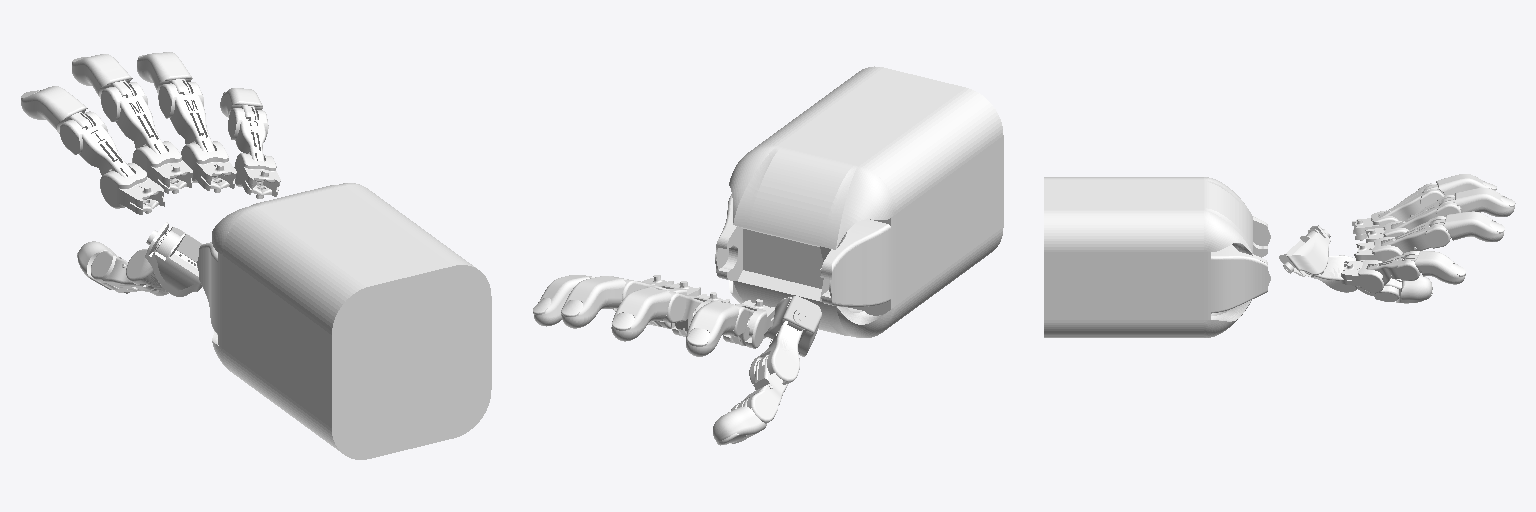
robot.urdf — orcahand-model:
<robot name="orcahand-model">
	<material name="white">
		<color rgba="1 1 1 1" />
	</material>
	
	
	<link name="right_forearm">
		<inertial>
			<origin xyz="0 0 0" rpy="0.0 0.0 0.0" />
			<mass value="7.422772269408962" />
			<inertia ixx="128.4318900361609" iyy="109.76841848699638" izz="132.91124270845685" ixy="-2.087847423904692" ixz="1.4281855698072828e-13" iyz="-2.854586256262337e-14" />
		</inertial>
		<visual>
			<origin xyz="0 0 0" rpy="0.0 0.0 0.0" />
			<geometry>
				<mesh filename="../stl/ForeArmStructure-Model.stl" scale="0.001 0.001 0.001" />
			</geometry>
			<material name="white" />
		</visual>
	</link>
	
	
	<link name="right_wrist_link">
		<inertial>
			<origin xyz="0 0 0" rpy="0.0 0.0 0.0" />
			<mass value="1.4358302150483626" />
			<inertia ixx="12.708767151212927" iyy="11.59574536210755" izz="16.243505983672723" ixy="1.940323774306307e-06" ixz="4.034621417713424e-06" iyz="-0.04398962617143915" />
		</inertial>
		<visual>
			<origin xyz="0 0 0" rpy="0.0 0.0 0.0" />
			<geometry>
				<mesh filename="../stl/TopTower-Model.stl" scale="0.001 0.001 0.001" />
			</geometry>
			<material name="white" />
		</visual>
	</link>
	<joint type="fixed" name="right_wrist_link_fixed">
		<parent link="right_forearm" />
		<child link="right_wrist_link" />
		<origin xyz="-0.010000000000000018 0.05230000000000584 -2.0816681711721685e-17" rpy="-1.5707963267948966 1.570796326794894 0.0" />
	</joint>
	
	
	<link name="right_palm">
		<inertial>
			<origin xyz="-0.004999999999999981 -0.0018770780631086129 0.049500000670552415" rpy="0.0 0.0 0.0" />
			<mass value="0.8530674839222121" />
			<inertia ixx="5.64599655945535" iyy="8.775715922656463" izz="4.238061929890296" ixy="-0.3232643354144511" ixz="0.8904961899074508" iyz="0.5112439505719035" />
		</inertial>
		<visual>
			<origin xyz="-0.004999999999999981 -0.0018770780631086129 0.049500000670552415" rpy="0.0 0.0 0.0" />
			<geometry>
				<mesh filename="../stl/R-Carpals.stl" scale="0.001 0.001 0.001" />
			</geometry>
			<material name="white" />
		</visual>
	</link>
	<joint type="revolute" name="right_wrist">
		<parent link="right_wrist_link" />
		<child link="right_palm" />
		<origin xyz="-3.2959746043559335e-17 2.42861286636753e-17 0.04" rpy="0.09289260590234294 0.0 -1.5707963267949" />
		<axis xyz="-0.9999999999999938 -9.630996986119195e-17 7.703182845897774e-17" />
		<limit lower="-1.1344640137963142" upper="0.6108652381980153" effort="100" velocity="100" />
	</joint>
	
	
	<link name="right_pinky_mp">
		<inertial>
			<origin xyz="-0.01775000000000023 -7.719519468096792e-17 -0.0009999999999999966" rpy="0.0 0.0 0.0" />
			<mass value="0.025832391646376553" />
			<inertia ixx="0.013522757440135555" iyy="0.03380562916501796" izz="0.037926070358509256" ixy="-3.167478840852844e-06" ixz="-0.002331119633907205" iyz="-4.487549673535706e-07" />
		</inertial>
		<visual>
			<origin xyz="-0.01775000000000023 -7.719519468096792e-17 -0.0009999999999999966" rpy="0.0 0.0 0.0" />
			<geometry>
				<mesh filename="../stl/P-AP.stl" scale="0.001 0.001 0.001" />
			</geometry>
			<material name="white" />
		</visual>
	</link>
	<joint type="revolute" name="right_pinky_abd">
		<parent link="right_palm" />
		<child link="right_pinky_mp" />
		<origin xyz="0.03564171604590427 0.0006891586859576484 0.06205424192069385" rpy="-1.5224982763416053 1.2579440273085907 -2.904592469503598" />
		<axis xyz="2.498001805406602e-16 -1.1102230246251565e-16 1.000000000000007" />
		<limit lower="-0.5235987755982988" upper="0.5235987755982988" effort="100" velocity="100" />
	</joint>
	
	
	<link name="right_pinky_pp">
		<inertial>
			<origin xyz="9.169868087003068e-18 3.2416949015788624e-17 -2.466914618245282e-16" rpy="0.0 0.0 0.0" />
			<mass value="0.008080250955757862" />
			<inertia ixx="0.025661504202305643" iyy="0.025813993359514866" izz="0.003476420784123192" ixy="2.7484806742075756e-07" ixz="-0.0018033087152573186" iyz="-3.611797272485351e-05" />
		</inertial>
		<visual>
			<origin xyz="9.169868087003068e-18 3.2416949015788624e-17 -2.466914618245282e-16" rpy="0.0 0.0 0.0" />
			<geometry>
				<mesh filename="../stl/P-PP.stl" scale="0.001 0.001 0.001" />
			</geometry>
			<material name="white" />
		</visual>
	</link>
	<joint type="revolute" name="right_pinky_mcp">
		<parent link="right_pinky_mp" />
		<child link="right_pinky_pp" />
		<origin xyz="-0.017750000000042766 -1.471513750451518e-16 -0.0009999999999996865" rpy="4.440892098500626e-15 -1.162450260857511 -5.329070518200751e-15" />
		<axis xyz="1.9984014443252818e-15 -1.000000000000005 9.71445146547012e-16" />
		<limit lower="-1.0471975511965976" upper="1.7453292519943295" effort="100" velocity="100" />
	</joint>
	
	
	<link name="right_pinky_fingertip">
		<inertial>
			<origin xyz="-1.6500029895434137e-17 1.603234676666448e-16 -3.0895633627166036e-16" rpy="0.0 0.0 0.0" />
			<mass value="0.077601125681334" />
			<inertia ixx="0.30272529615882315" iyy="0.3121287876048924" izz="0.02610606111956632" ixy="-2.5492682886922744e-07" ixz="0.02534716903299485" iyz="0.00019494766142365898" />
		</inertial>
		<visual>
			<origin xyz="-1.6500029895434137e-17 1.603234676666448e-16 -3.0895633627166036e-16" rpy="0.0 0.0 0.0" />
			<geometry>
				<mesh filename="../stl/P-FingerTipAssembly.stl" scale="0.001 0.001 0.001" />
			</geometry>
			<material name="white" />
		</visual>
	</link>
	<joint type="revolute" name="right_pinky_pip">
		<parent link="right_pinky_pp" />
		<child link="right_pinky_fingertip" />
		<origin xyz="0.0010000000000001516 -8.627315522741384e-17 0.030999999999999958" rpy="-2.710141358729721e-16 -0.2873413294012146 4.975041580987574e-15" />
		<axis xyz="-2.6645352591003757e-15 -1.0000000000000084 1.3739009929736312e-15" />
		<limit lower="-0.2617993877991494" upper="1.8675022996339325" effort="100" velocity="100" />
	</joint>
	
	
	<link name="right_ring_mp">
		<inertial>
			<origin xyz="-0.019250000000000086 -1.5612511283791264e-17 -0.0010000000000000104" rpy="0.0 0.0 0.0" />
			<mass value="0.032519771439901" />
			<inertia ixx="0.020500922910093925" iyy="0.04685391824550257" izz="0.05152571078999821" ixy="-2.0596306437421495e-06" ixz="-0.002994066569167041" iyz="-3.369965655261708e-07" />
		</inertial>
		<visual>
			<origin xyz="-0.019250000000000086 -1.5612511283791264e-17 -0.0010000000000000104" rpy="0.0 0.0 0.0" />
			<geometry>
				<mesh filename="../stl/M-AP.stl" scale="0.001 0.001 0.001" />
			</geometry>
			<material name="white" />
		</visual>
	</link>
	<joint type="revolute" name="right_ring_abd">
		<parent link="right_palm" />
		<child link="right_ring_mp" />
		<origin xyz="0.015307722147416492 -0.0032183646651256165 0.07130479703009864" rpy="-1.570796326794898 1.4497389321405674 -3.054326190990079" />
		<axis xyz="-5.551115123125783e-16 -2.7755575615628914e-16 0.9999999999999982" />
		<limit lower="-0.47123889803846897" upper="0.47123889803846897" effort="100" velocity="100" />
	</joint>
	
	
	<link name="right_ring_pp">
		<inertial>
			<origin xyz="5.700665686981452e-17 2.225537780320469e-17 -1.8869844904811258e-16" rpy="0.0 0.0 0.0" />
			<mass value="0.012677212618130745" />
			<inertia ixx="0.06398795871049195" iyy="0.06496843631962" izz="0.006828043347124116" ixy="1.6018492960232978e-06" ixz="-0.004933868155861309" iyz="-4.5886778446443334e-05" />
		</inertial>
		<visual>
			<origin xyz="5.700665686981452e-17 2.225537780320469e-17 -1.8869844904811258e-16" rpy="0.0 0.0 0.0" />
			<geometry>
				<mesh filename="../stl/M-PP.stl" scale="0.001 0.001 0.001" />
			</geometry>
			<material name="white" />
		</visual>
	</link>
	<joint type="revolute" name="right_ring_mcp">
		<parent link="right_ring_mp" />
		<child link="right_ring_pp" />
		<origin xyz="-0.019250000000042747 -6.299648727780382e-17 -0.0009999999999997244" rpy="4.884981308350689e-15 -1.165956784417329 -5.329070518200751e-15" />
		<axis xyz="2.3314683517128287e-15 -1.0000000000000036 -6.661338147750939e-16" />
		<limit lower="-1.0471975511965976" upper="1.7453292519943295" effort="100" velocity="100" />
	</joint>
	
	
	<link name="right_ring_fingertip">
		<inertial>
			<origin xyz="2.1485182727897087e-17 6.802915389584729e-17 -1.0181359902818274e-16" rpy="0.0 0.0 0.0" />
			<mass value="0.10727655673207101" />
			<inertia ixx="0.5916273374327218" iyy="0.6006750605714138" izz="0.037455492664449" ixy="4.721545619181251e-05" ixz="0.017882728221703833" iyz="0.0001278559819768477" />
		</inertial>
		<visual>
			<origin xyz="2.1485182727897087e-17 6.802915389584729e-17 -1.0181359902818274e-16" rpy="0.0 0.0 0.0" />
			<geometry>
				<mesh filename="../stl/M-FingerTipAssembly-Black.stl" scale="0.001 0.001 0.001" />
			</geometry>
			<material name="white" />
		</visual>
	</link>
	<joint type="revolute" name="right_ring_pip">
		<parent link="right_ring_pp" />
		<child link="right_ring_fingertip" />
		<origin xyz="0.0020000000000001583 -7.526407518424884e-17 0.039999999999999744" rpy="-6.321506376238568e-17 -0.2758921831131236 4.4922588798890826e-15" />
		<axis xyz="-2.55351295663786e-15 -1.0000000000000089 -2.498001805406602e-16" />
		<limit lower="-0.2617993877991494" upper="1.8675022996339325" effort="100" velocity="100" />
	</joint>
	
	
	<link name="right_middle_mp">
		<inertial>
			<origin xyz="-0.019250000000000222 8.673617379884035e-18 -0.0010000000000000096" rpy="0.0 0.0 0.0" />
			<mass value="0.032519771439901" />
			<inertia ixx="0.020500922910093925" iyy="0.04685391824550257" izz="0.05152571078999821" ixy="-2.0596306437421495e-06" ixz="-0.002994066569167041" iyz="-3.369965655261708e-07" />
		</inertial>
		<visual>
			<origin xyz="-0.019250000000000222 8.673617379884035e-18 -0.0010000000000000096" rpy="0.0 0.0 0.0" />
			<geometry>
				<mesh filename="../stl/M-AP.stl" scale="0.001 0.001 0.001" />
			</geometry>
			<material name="white" />
		</visual>
	</link>
	<joint type="revolute" name="right_middle_abd">
		<parent link="right_palm" />
		<child link="right_middle_mp" />
		<origin xyz="-0.005706333727246688 -0.004023404072025652 0.07850189342716919" rpy="1.5707963267950564 1.568363625908518 1.5942802633617248e-13" />
		<axis xyz="-8.049116928532385e-16 1.1102230246251565e-16 1.000000000000007" />
		<limit lower="-0.47123889803846897" upper="0.47123889803846897" effort="100" velocity="100" />
	</joint>
	
	
	<link name="right_middle_pp">
		<inertial>
			<origin xyz="1.0227522954513753e-16 1.875436446516443e-17 -1.0133092484243335e-16" rpy="0.0 0.0 0.0" />
			<mass value="0.012677212618130745" />
			<inertia ixx="0.06398795871049195" iyy="0.06496843631962" izz="0.006828043347124116" ixy="1.6018492960232978e-06" ixz="-0.004933868155861309" iyz="-4.5886778446443334e-05" />
		</inertial>
		<visual>
			<origin xyz="1.0227522954513753e-16 1.875436446516443e-17 -1.0133092484243335e-16" rpy="0.0 0.0 0.0" />
			<geometry>
				<mesh filename="../stl/M-PP.stl" scale="0.001 0.001 0.001" />
			</geometry>
			<material name="white" />
		</visual>
	</link>
	<joint type="revolute" name="right_middle_mcp">
		<parent link="right_middle_mp" />
		<child link="right_middle_pp" />
		<origin xyz="-0.019250000000042317 -1.4694768354619675e-17 -0.000999999999999708" rpy="5.329070518200751e-15 -1.14190613061141 -4.884981308350689e-15" />
		<axis xyz="2.275957200481571e-15 -1.000000000000007 8.604228440844963e-16" />
		<limit lower="-1.0471975511965976" upper="1.7453292519943295" effort="100" velocity="100" />
	</joint>
	
	
	<link name="right_middle_fingertip">
		<inertial>
			<origin xyz="-9.219511976271865e-18 1.70704351104027e-17 -1.159921775689712e-16" rpy="0.0 0.0 0.0" />
			<mass value="0.10727655673207101" />
			<inertia ixx="0.5916273374327218" iyy="0.6006750605714138" izz="0.037455492664449" ixy="4.721545619181251e-05" ixz="0.017882728221703833" iyz="0.0001278559819768477" />
		</inertial>
		<visual>
			<origin xyz="-9.219511976271865e-18 1.70704351104027e-17 -1.159921775689712e-16" rpy="0.0 0.0 0.0" />
			<geometry>
				<mesh filename="../stl/M-FingerTipAssembly-Black.stl" scale="0.001 0.001 0.001" />
			</geometry>
			<material name="white" />
		</visual>
	</link>
	<joint type="revolute" name="right_middle_pip">
		<parent link="right_middle_pp" />
		<child link="right_middle_fingertip" />
		<origin xyz="0.001999999999999982 3.637839887429781e-17 0.04000000000000013" rpy="-1.477445421485926e-15 -0.29829009009899865 5.723166307809804e-15" />
		<axis xyz="-2.942091015256665e-15 -1.0000000000000075 3.608224830031759e-16" />
		<limit lower="-0.2617993877991494" upper="1.8675022996339325" effort="100" velocity="100" />
	</joint>
	
	
	<link name="right_index_mp">
		<inertial>
			<origin xyz="-0.018750000000000034 1.474514954580286e-17 -0.0009999999999999992" rpy="0.0 0.0 0.0" />
			<mass value="0.029822945921816744" />
			<inertia ixx="0.017878744827776846" iyy="0.04190374555018086" izz="0.04672174032261275" ixy="-0.0001797533408073746" ixz="-0.00269203242784643" iyz="-8.40625882660897e-06" />
		</inertial>
		<visual>
			<origin xyz="-0.018750000000000034 1.474514954580286e-17 -0.0009999999999999992" rpy="0.0 0.0 0.0" />
			<geometry>
				<mesh filename="../stl/I-AP-R.stl" scale="0.001 0.001 0.001" />
			</geometry>
			<material name="white" />
		</visual>
	</link>
	<joint type="revolute" name="right_index_abd">
		<parent link="right_palm" />
		<child link="right_index_mp" />
		<origin xyz="-0.027240979039914317 -0.0022069668041747544 0.06940680269673662" rpy="1.6668743340007357 1.4123694457100915 0.0089347878931616" />
		<axis xyz="-8.881784197001252e-16 -1.1102230246251565e-16 0.9999999999999973" />
		<limit lower="-0.4363323129985824" upper="0.5235987755982988" effort="100" velocity="100" />
	</joint>
	
	
	<link name="right_index_pp">
		<inertial>
			<origin xyz="3.2413764957616794e-18 -1.2144450510052133e-17 6.868053561200404e-17" rpy="0.0 0.0 0.0" />
			<mass value="0.01132114862968844" />
			<inertia ixx="0.04982968696098919" iyy="0.05037901655825475" izz="0.005805237478892593" ixy="1.084260814524803e-06" ixz="-0.0035894224379817113" iyz="-4.528530974635825e-05" />
		</inertial>
		<visual>
			<origin xyz="3.2413764957616794e-18 -1.2144450510052133e-17 6.868053561200404e-17" rpy="0.0 0.0 0.0" />
			<geometry>
				<mesh filename="../stl/I-PP.stl" scale="0.001 0.001 0.001" />
			</geometry>
			<material name="white" />
		</visual>
	</link>
	<joint type="revolute" name="right_index_mcp">
		<parent link="right_index_mp" />
		<child link="right_index_pp" />
		<origin xyz="-0.01875000000004235 5.356778218562262e-17 -0.0009999999999997242" rpy="7.200356054473043e-15 -1.1586275570717532 -7.761768082277513e-15" />
		<axis xyz="3.552713678800501e-15 -1.0000000000000044 -1.27675647831893e-15" />
		<limit lower="-1.0471975511965976" upper="1.7453292519943295" effort="100" velocity="100" />
	</joint>
	
	
	<link name="right_index_fingertip">
		<inertial>
			<origin xyz="4.681972832492101e-17 -8.547712612320484e-17 -4.374792614639457e-16" rpy="0.0 0.0 0.0" />
			<mass value="0.10739828939002305" />
			<inertia ixx="0.5923049588597477" iyy="0.6013927551664877" izz="0.03750697529925875" ixy="4.7308461782597466e-05" ixz="0.017709973500229417" iyz="0.00012826675215776994" />
		</inertial>
		<visual>
			<origin xyz="4.681972832492101e-17 -8.547712612320484e-17 -4.374792614639457e-16" rpy="0.0 0.0 0.0" />
			<geometry>
				<mesh filename="../stl/I-FingerTipAssembly-Black.stl" scale="0.001 0.001 0.001" />
			</geometry>
			<material name="white" />
		</visual>
	</link>
	<joint type="revolute" name="right_index_pip">
		<parent link="right_index_pp" />
		<child link="right_index_fingertip" />
		<origin xyz="0.00149999999999979 1.4352077429940977e-17 0.03700000000000054" rpy="-1.230428212301434e-16 -0.28395867321156976 4.391468296782341e-15" />
		<axis xyz="-1.2212453270876722e-15 -1.0000000000000062 -1.0130785099704553e-15" />
		<limit lower="-0.2617993877991494" upper="1.8675022996339325" effort="100" velocity="100" />
	</joint>
	
	
	<link name="right_thumb_mp">
		<inertial>
			<origin xyz="-9.809996781920405e-17 -1.4983674023749671e-16 -0.003850000000000048" rpy="0.0 0.0 0.0" />
			<mass value="0.055662858221089954" />
			<inertia ixx="0.09055366647025549" iyy="0.07681332674072781" izz="0.047726222810248256" ixy="-0.004155658263676832" ixz="-0.00047893714614845117" iyz="0.0018559647438980654" />
		</inertial>
		<visual>
			<origin xyz="-9.809996781920405e-17 -1.4983674023749671e-16 -0.003850000000000048" rpy="0.0 0.0 0.0" />
			<geometry>
				<mesh filename="../stl/T-TP-R.stl" scale="0.001 0.001 0.001" />
			</geometry>
			<material name="white" />
		</visual>
	</link>
	<joint type="revolute" name="right_thumb_cmc">
		<parent link="right_palm" />
		<child link="right_thumb_mp" />
		<origin xyz="-0.028398719136200557 0.010997180928709029 0.030589533491631654" rpy="0.5235563352327315 0.5659773793116982 -1.7309174690689884" />
		<axis xyz="-1.1171619185290638e-15 -1.1102230246251565e-16 -1.000000000000005" />
		<limit lower="-0.7853981633974483" upper="0.5759586531581288" effort="100" velocity="100" />
	</joint>
	
	
	<link name="right_thumb_abd_link">
		<inertial>
			<origin xyz="-0.028000000000000323 -2.949029909160572e-17 -2.47198095326695e-17" rpy="0.0 0.0 0.0" />
			<mass value="0.04849972783267987" />
			<inertia ixx="0.02743772072004856" iyy="0.14212929137923425" izz="0.14922671735248455" ixy="0.0002861356115115523" ixz="0.0011066954312779526" iyz="0.0007617854769328448" />
		</inertial>
		<visual>
			<origin xyz="-0.028000000000000323 -2.949029909160572e-17 -2.47198095326695e-17" rpy="0.0 0.0 0.0" />
			<geometry>
				<mesh filename="../stl/R-T-AP.stl" scale="0.001 0.001 0.001" />
			</geometry>
			<material name="white" />
		</visual>
	</link>
	<joint type="revolute" name="right_thumb_abd">
		<parent link="right_thumb_mp" />
		<child link="right_thumb_abd_link" />
		<origin xyz="-0.007999999999728648 -1.3812735677465326e-16 -0.003850000000000237" rpy="-1.2217304763960293 0.5916323673427959 5.995204332975845e-15" />
		<axis xyz="3.3306690738754696e-15 0.3420201433256648 0.9396926207859191" />
		<limit lower="-0.3141592653589793" upper="0.9599310885968813" effort="100" velocity="100" />
	</joint>
	
	
	<link name="right_thumb_pp">
		<inertial>
			<origin xyz="1.4278897406830282e-16 -1.1759145135290078e-16 5.942883444279594e-17" rpy="0.0 0.0 0.0" />
			<mass value="0.010418590025481858" />
			<inertia ixx="0.03394054936751339" iyy="0.033743304134744044" izz="0.0055229193755240115" ixy="-5.409959109463672e-06" ixz="-0.002319068052501463" iyz="-8.962085366401786e-05" />
		</inertial>
		<visual>
			<origin xyz="1.4278897406830282e-16 -1.1759145135290078e-16 5.942883444279594e-17" rpy="0.0 0.0 0.0" />
			<geometry>
				<mesh filename="../stl/T-PP.stl" scale="0.001 0.001 0.001" />
			</geometry>
			<material name="white" />
		</visual>
	</link>
	<joint type="revolute" name="right_thumb_mcp">
		<parent link="right_thumb_abd_link" />
		<child link="right_thumb_pp" />
		<origin xyz="-0.028000000000000334 -3.190165465969079e-17 2.708947519086038e-16" rpy="1.3766765505351941e-14 1.4398452395323198 -3.1415926535897327" />
		<axis xyz="-7.216449660063518e-15 -1.000000000000005 -4.2799097599299785e-14" />
		<limit lower="-1.0471975511965976" upper="1.5707963267948966" effort="100" velocity="100" />
	</joint>
	
	
	<link name="right_thumb_fingertip">
		<inertial>
			<origin xyz="2.667488003680661e-16 -2.6450603811115643e-16 -3.1692490684656855e-16" rpy="0.0 0.0 0.0" />
			<mass value="0.05518453298620406" />
			<inertia ixx="0.1423618505124362" iyy="0.14037811201540495" izz="0.02117238119243049" ixy="1.629991930502731e-05" ixz="-0.00550404130780968" iyz="2.606194879132354e-05" />
		</inertial>
		<visual>
			<origin xyz="2.667488003680661e-16 -2.6450603811115643e-16 -3.1692490684656855e-16" rpy="0.0 0.0 0.0" />
			<geometry>
				<mesh filename="../stl/T-DP.stl" scale="0.001 0.001 0.001" />
			</geometry>
			<material name="white" />
		</visual>
	</link>
	<joint type="revolute" name="right_thumb_dip">
		<parent link="right_thumb_pp" />
		<child link="right_thumb_fingertip" />
		<origin xyz="0.0009999999999980985 -1.3284677295600182e-15 0.032000000000001534" rpy="-1.1333722657555106e-14 -0.3492153931115447 1.4400328473454333e-14" />
		<axis xyz="-1.3655743202889425e-14 -1.0000000000000073 -8.326672684688674e-17" />
		<limit lower="-0.9599310885968813" upper="1.8675022996339325" effort="100" velocity="100" />
	</joint>
</robot>

--- Facts derived from the render (not from the file) ---
The picture shows the robot from 3 angles, left to right: view 1: azimuth 30°, elevation 25°; view 2: azimuth 150°, elevation 25°; view 3: azimuth 270°, elevation 25°; orthographic projection.
Robot: orcahand-model — 19 links, 18 joints (17 revolute, 1 fixed); root link right_forearm; default pose: every joint at zero.
Links seen in each view (by area): view 1: right_forearm, right_thumb_mp, right_wrist_link, right_middle_pp, right_index_pp, right_ring_pp, right_index_mp, right_index_fingertip, right_middle_mp, right_ring_mp, right_middle_fingertip, right_ring_fingertip (+6 smaller); view 2: right_forearm, right_wrist_link, right_ring_fingertip, right_middle_fingertip, right_index_fingertip, right_thumb_mp, right_thumb_abd_link, right_thumb_pp, right_thumb_fingertip, right_pinky_fingertip, right_index_mp, right_middle_pp (+1 smaller); view 3: right_forearm, right_wrist_link, right_thumb_mp, right_ring_fingertip, right_middle_fingertip, right_ring_pp, right_pinky_fingertip, right_pinky_mp, right_index_pp, right_pinky_pp, right_thumb_fingertip, right_thumb_abd_link (+4 smaller).
Link boxes in pixels (left/top/right/bottom): right_forearm: left=223, top=185, right=491, bottom=459; right_thumb_mp: left=145, top=222, right=202, bottom=296; right_wrist_link: left=197, top=183, right=367, bottom=371; right_middle_pp: left=101, top=82, right=167, bottom=153; right_index_pp: left=60, top=111, right=134, bottom=177; right_ring_pp: left=158, top=82, right=214, bottom=151; right_index_mp: left=100, top=163, right=164, bottom=214; right_index_fingertip: left=21, top=86, right=93, bottom=133; right_middle_mp: left=132, top=141, right=192, bottom=193; right_ring_mp: left=181, top=141, right=236, bottom=192; right_middle_fingertip: left=72, top=54, right=134, bottom=98; right_ring_fingertip: left=137, top=52, right=192, bottom=94; right_forearm: left=755, top=66, right=1003, bottom=329; right_wrist_link: left=715, top=145, right=895, bottom=337; right_ring_fingertip: left=561, top=276, right=626, bottom=328; right_middle_fingertip: left=611, top=287, right=670, bottom=341; right_index_fingertip: left=686, top=301, right=738, bottom=356; right_thumb_mp: left=764, top=296, right=821, bottom=356; right_thumb_abd_link: left=749, top=321, right=803, bottom=385; right_thumb_pp: left=731, top=355, right=787, bottom=423; right_thumb_fingertip: left=713, top=398, right=766, bottom=445; right_pinky_fingertip: left=533, top=275, right=594, bottom=326; right_index_mp: left=723, top=299, right=774, bottom=348; right_middle_pp: left=650, top=287, right=702, bottom=336; right_forearm: left=1044, top=177, right=1203, bottom=337; right_wrist_link: left=1204, top=177, right=1270, bottom=337; right_thumb_mp: left=1279, top=225, right=1330, bottom=276; right_ring_fingertip: left=1430, top=211, right=1504, bottom=241; right_middle_fingertip: left=1439, top=188, right=1515, bottom=216; right_ring_pp: left=1381, top=216, right=1450, bottom=254; right_pinky_fingertip: left=1403, top=251, right=1465, bottom=284; right_pinky_mp: left=1341, top=260, right=1383, bottom=292; right_index_pp: left=1378, top=183, right=1443, bottom=220; right_pinky_pp: left=1366, top=251, right=1420, bottom=285; right_thumb_fingertip: left=1385, top=274, right=1432, bottom=303; right_thumb_abd_link: left=1299, top=255, right=1357, bottom=292.
Size in the robot's own frame: 0.1172 by 0.3263 by 0.0984 metres.
Meshes: 16 distinct files referenced, 18 mesh visuals loaded (15 binary STL); not drawn: 1 (reference not matched to a file when rendering).
